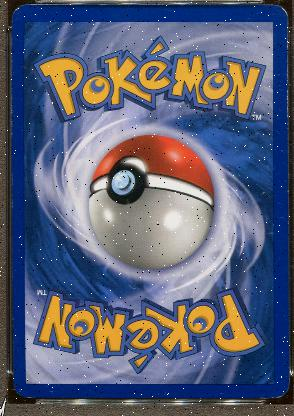Card: (9, 2, 291, 402)
Corner Wear: (13, 382, 36, 400), (263, 3, 288, 19), (10, 3, 23, 25), (267, 388, 286, 400)
Edge Wear: (284, 35, 287, 141), (10, 91, 13, 139), (11, 36, 13, 82), (74, 4, 118, 6), (11, 169, 13, 209), (12, 312, 14, 330), (285, 188, 287, 196)
Scratch: (44, 22, 51, 32), (273, 216, 283, 221), (277, 334, 283, 340), (265, 232, 273, 235), (162, 390, 166, 396), (259, 190, 264, 194), (276, 200, 281, 204)
